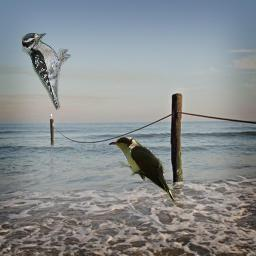Cuckoo: (107, 137, 174, 204)
Woodpecker: (22, 33, 71, 110)
